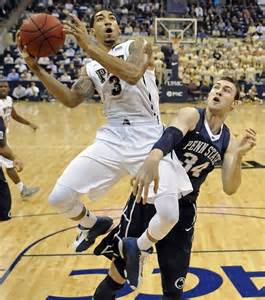basketball: (20, 13, 65, 57)
